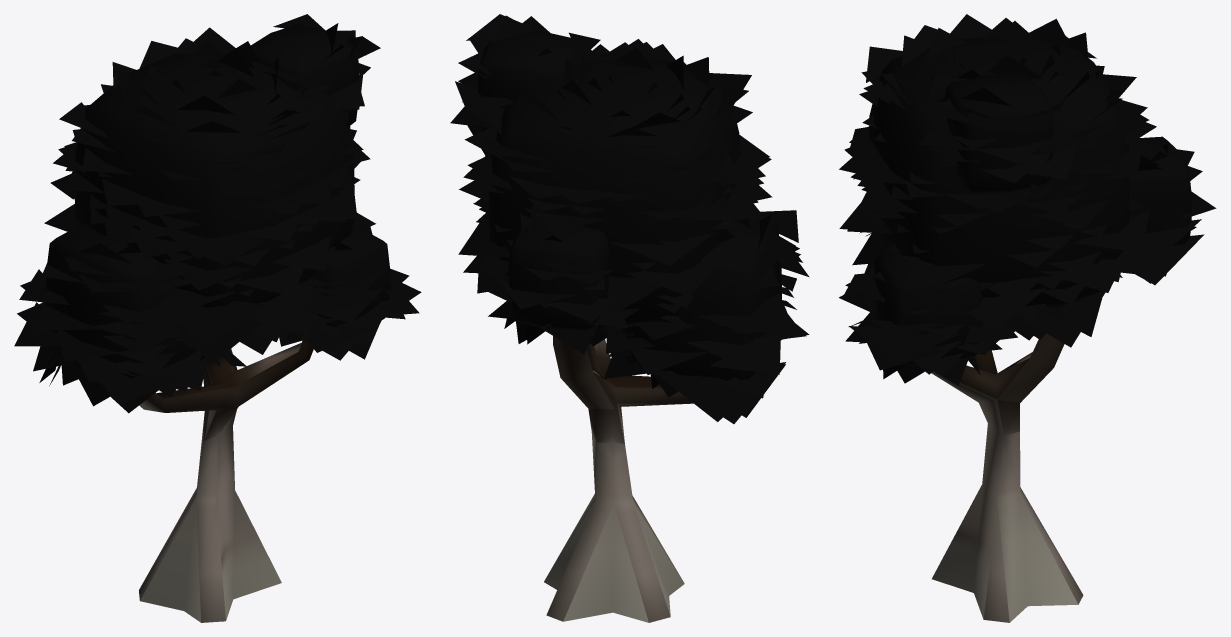
The model's file is Tree_5E.fbx.
3 renders of one model, left to right at view 1: azimuth 30°, elevation 25°; view 2: azimuth 150°, elevation 25°; view 3: azimuth 270°, elevation 25°, orthographic. The views are drawn at different scales.
Parts seen in each view (by area): view 1: Tree_5E; view 2: Tree_5E; view 3: Tree_5E.
Part boxes in pixels (x1=…): Tree_5E: x1=14, y1=14, x2=421, y2=622; Tree_5E: x1=450, y1=14, x2=809, y2=622; Tree_5E: x1=839, y1=14, x2=1216, y2=622.
Bounding box in the file's own units: 5.76 × 8.83 × 5.4.
